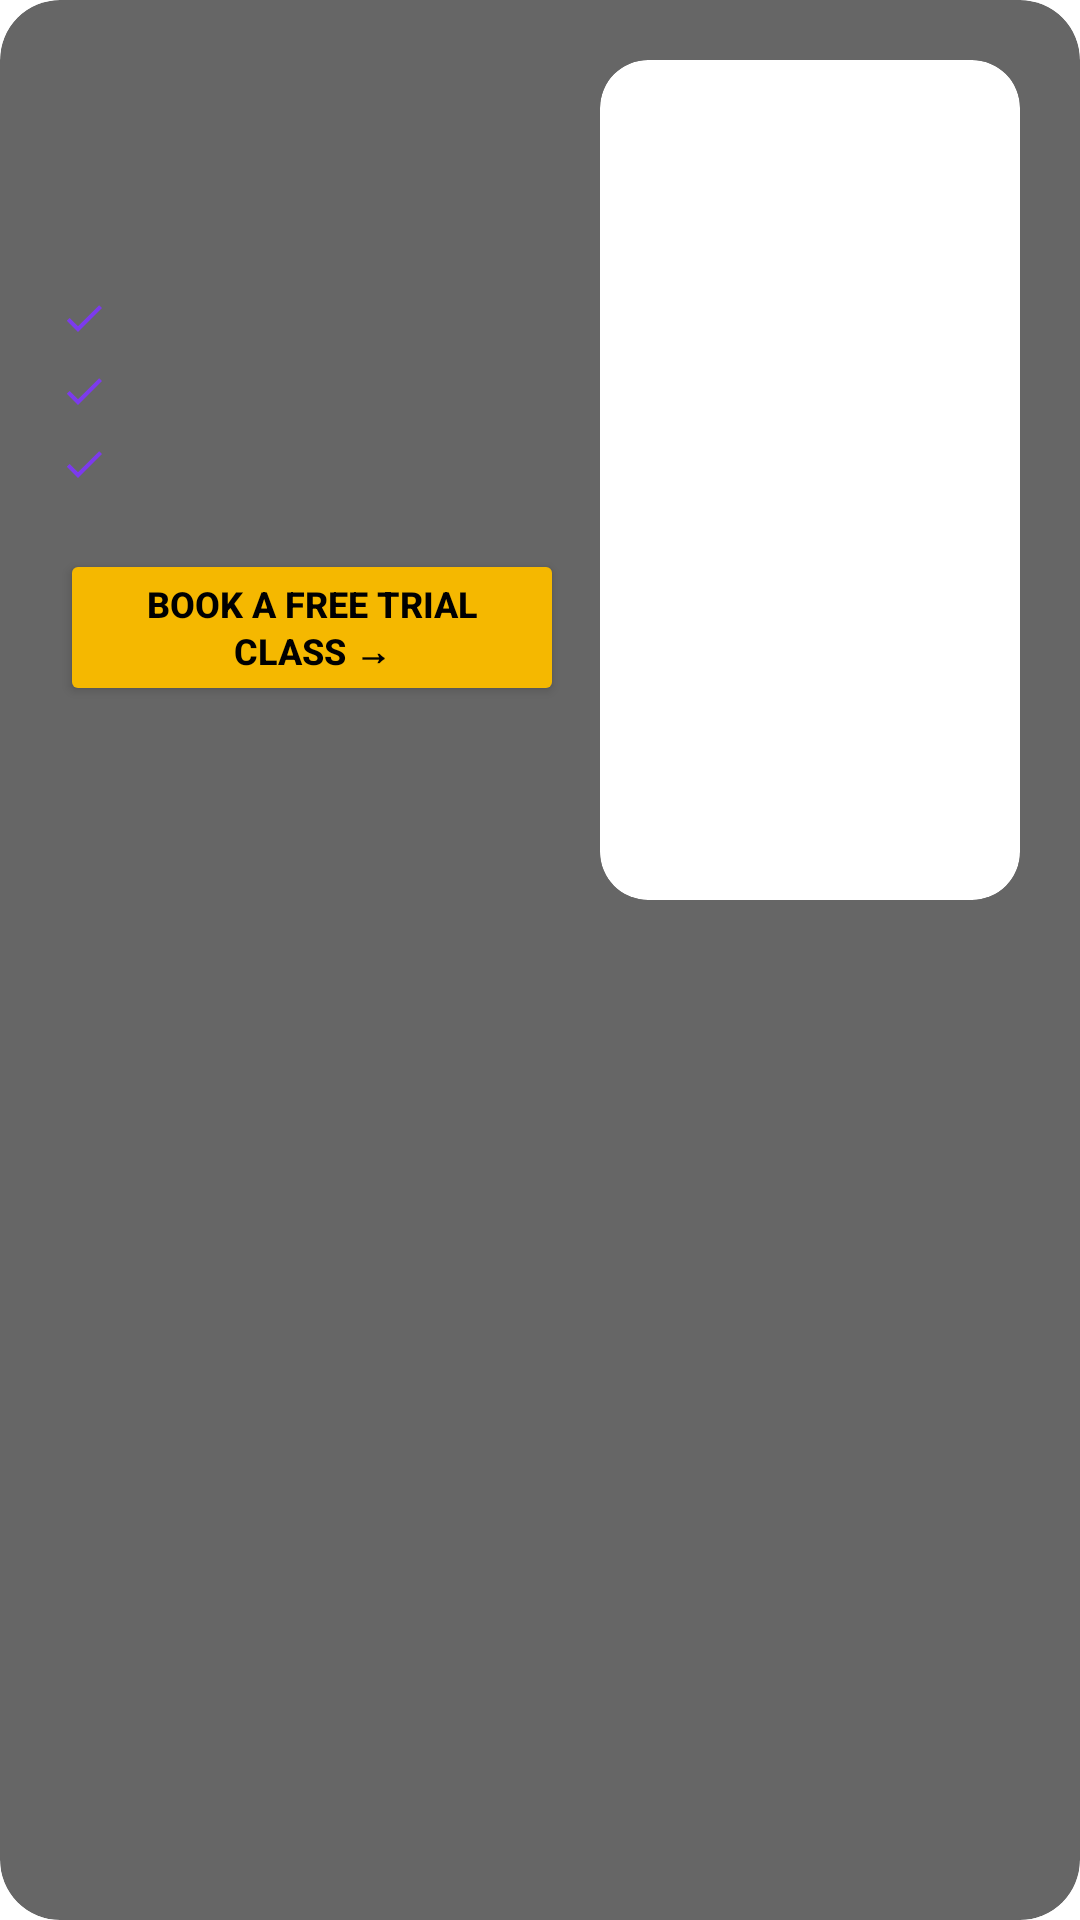

Icons on this 1080px×1920px Android screen, each with its box as [left=x1, top=y1, right=x2, bottom=y2]:
check: [left=67, top=305, right=102, bottom=332], [left=67, top=378, right=102, bottom=405], [left=67, top=451, right=102, bottom=478]
